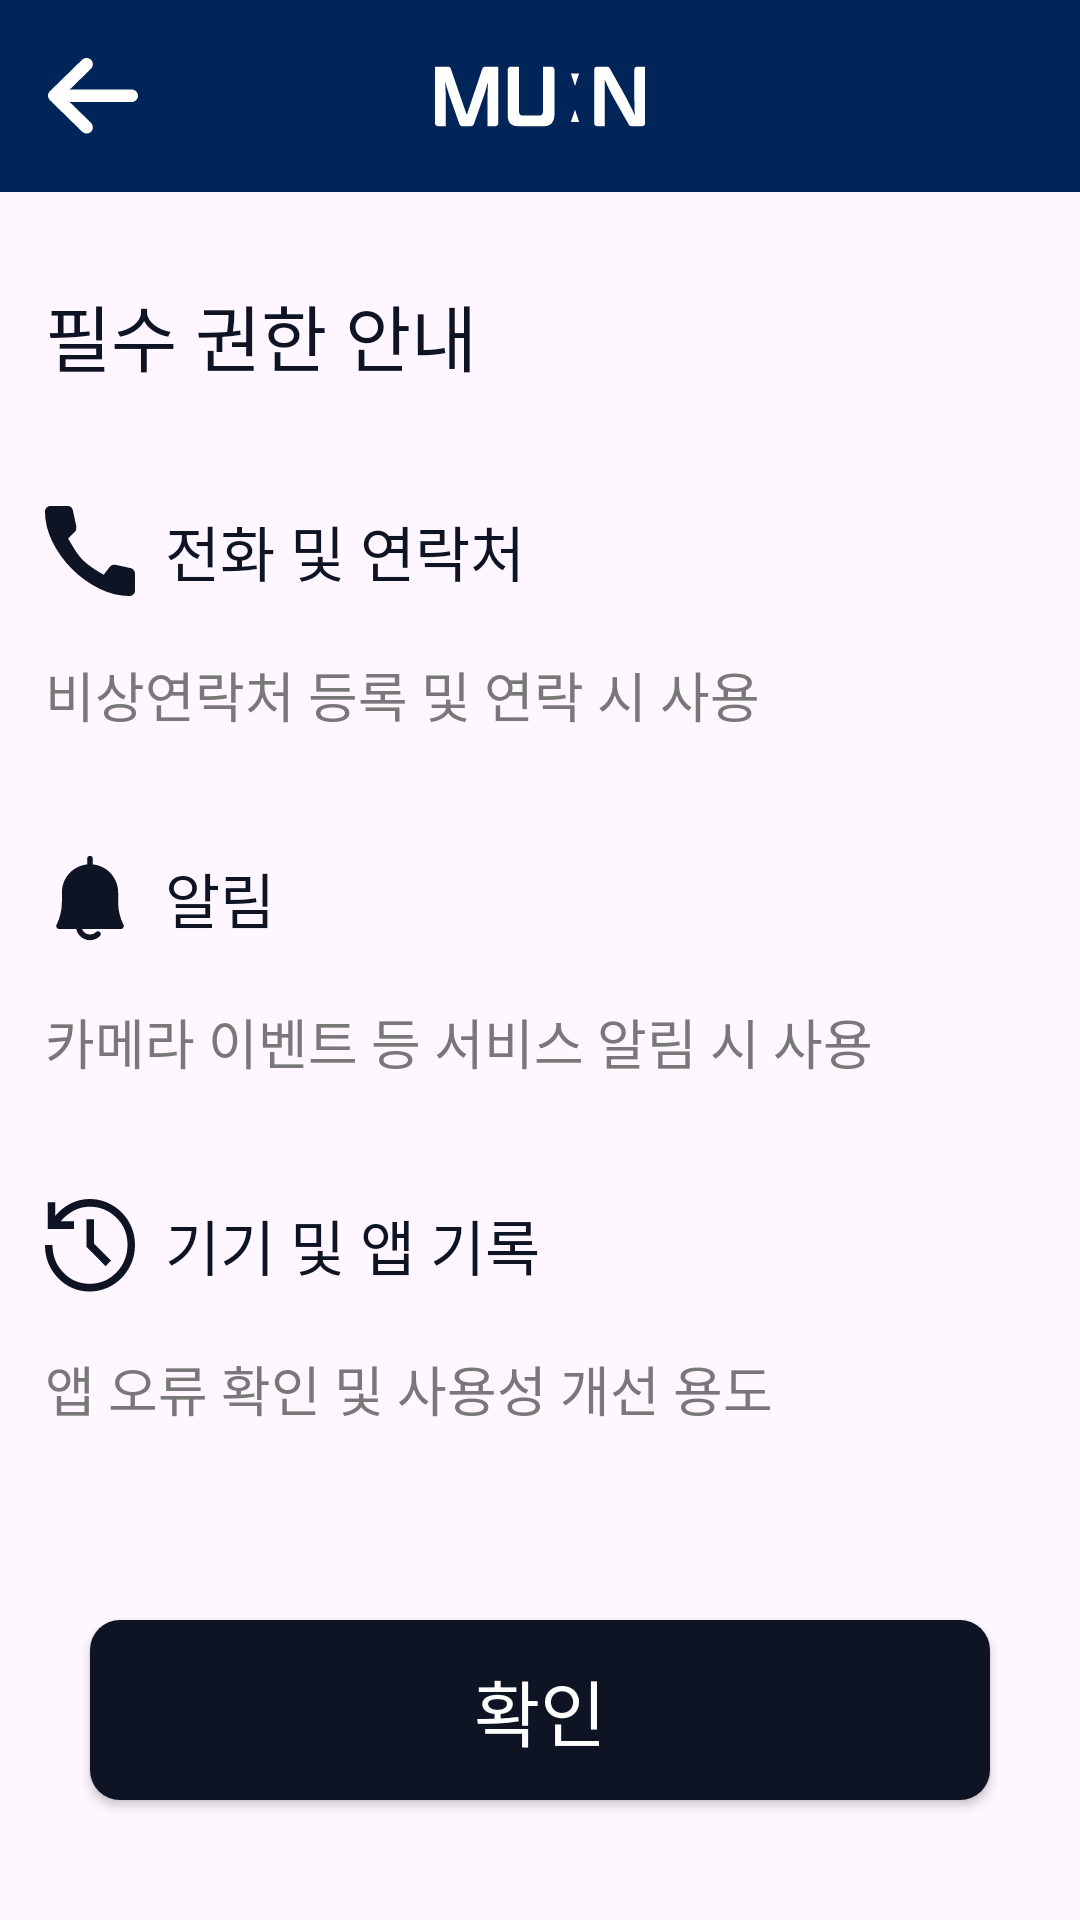

Screen size 1080w x 1920h. Icon name, then its box in pixels as (x1, y1, x2, y2):
back: (48, 58, 138, 134)
loading alam: (56, 856, 124, 941)
loading phone: (45, 506, 135, 596)
loading time: (45, 1199, 135, 1292)
